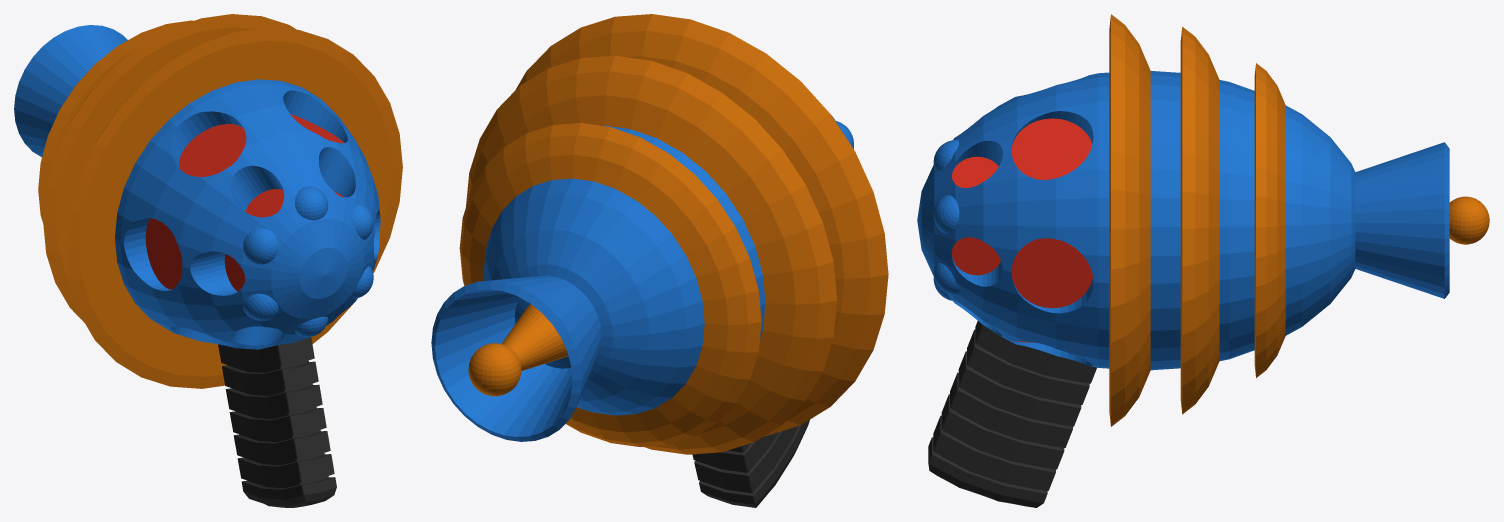
The model's file is Pistolet Laser.fbx.
The picture shows the model from 3 angles, left to right: view 1: azimuth 30°, elevation 25°; view 2: azimuth 150°, elevation 25°; view 3: azimuth 270°, elevation 25°; orthographic projection. The views are drawn at different scales.
Parts seen in each view (by area): view 1: Sphere.000; view 2: Sphere.000; view 3: Sphere.000.
Boxes of the visible parts, left/top/right/bottom form: Sphere.000: left=14, top=14, right=402, bottom=507; Sphere.000: left=431, top=14, right=888, bottom=507; Sphere.000: left=917, top=14, right=1489, bottom=507.
Bounding box in the file's own units: 550 × 686 × 761.
